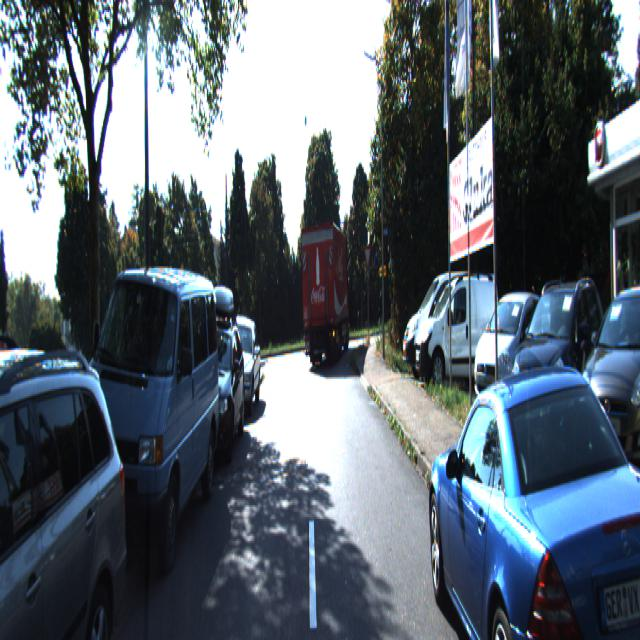Car: (424, 334, 640, 638), (71, 247, 223, 591), (0, 324, 134, 638), (506, 268, 608, 430), (574, 270, 640, 484), (177, 299, 250, 464), (400, 265, 502, 380), (471, 284, 553, 411), (414, 265, 499, 385), (298, 217, 350, 367), (218, 310, 264, 422)
